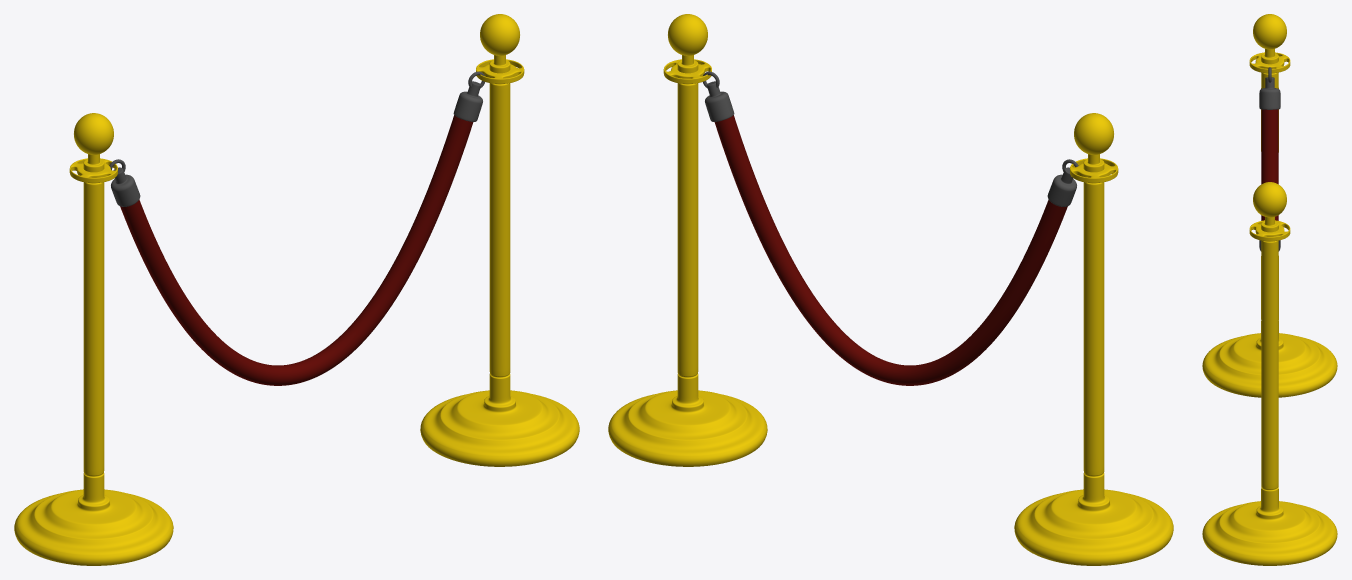
3 renders of one model, left to right at view 1: azimuth 30°, elevation 25°; view 2: azimuth 150°, elevation 25°; view 3: azimuth 270°, elevation 25°, orthographic. The views are drawn at different scales.
Visible parts, largest first — view 1: SM_Post; view 2: SM_Post; view 3: SM_Post.
Part boxes in pixels (<box>): SM_Post: <box>14,14,579,565</box>; SM_Post: <box>608,14,1173,565</box>; SM_Post: <box>1202,14,1337,565</box>.
Size of the model in its own units: 2.01 by 1.47 by 0.5091.
